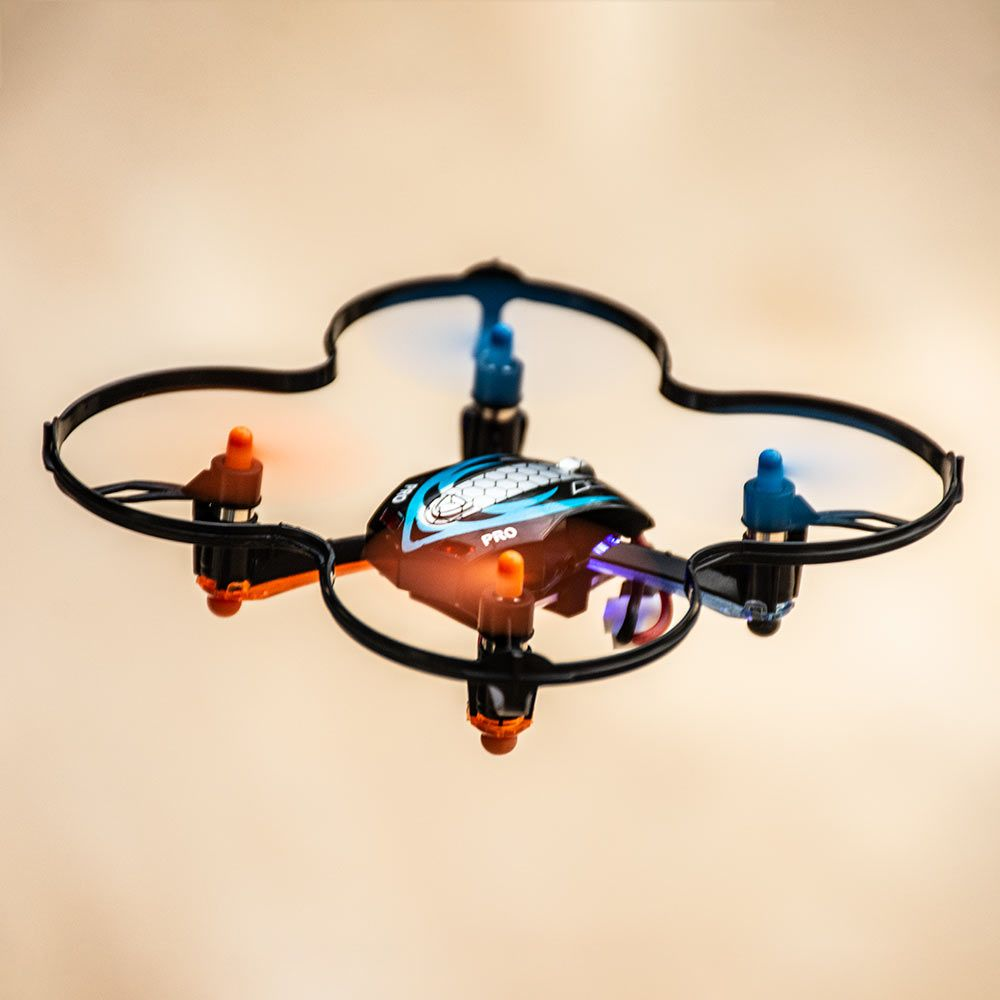drone: (39, 252, 977, 760)
